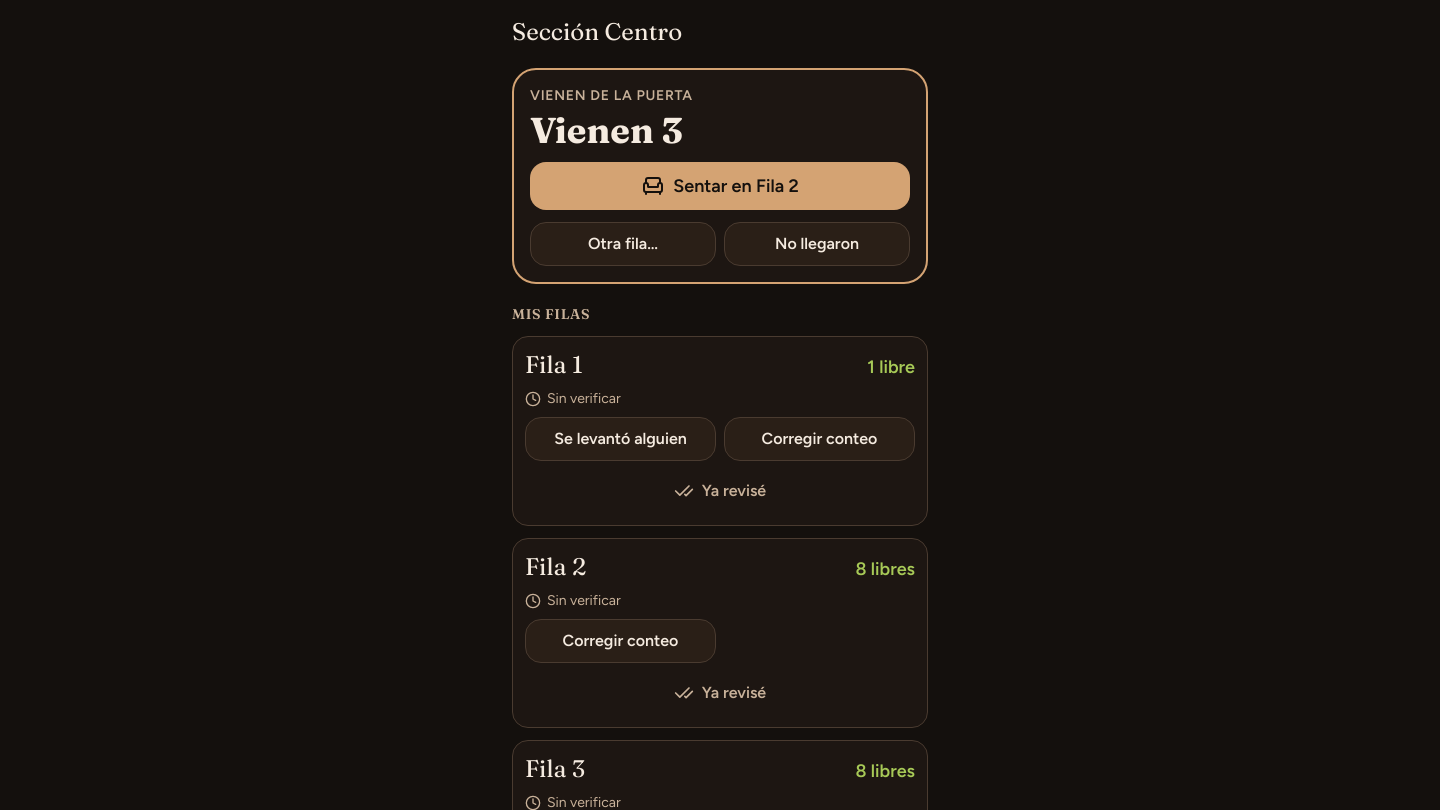
Test: PendienteCard / sentar › 'Otra fila…' en filas de un tramo lista las filas donde entra el grupo y no las que no
The width and height of the screenshot is (1440, 810).
Click the button "Otra fila…" at [623, 244], box [530,222,716,266]
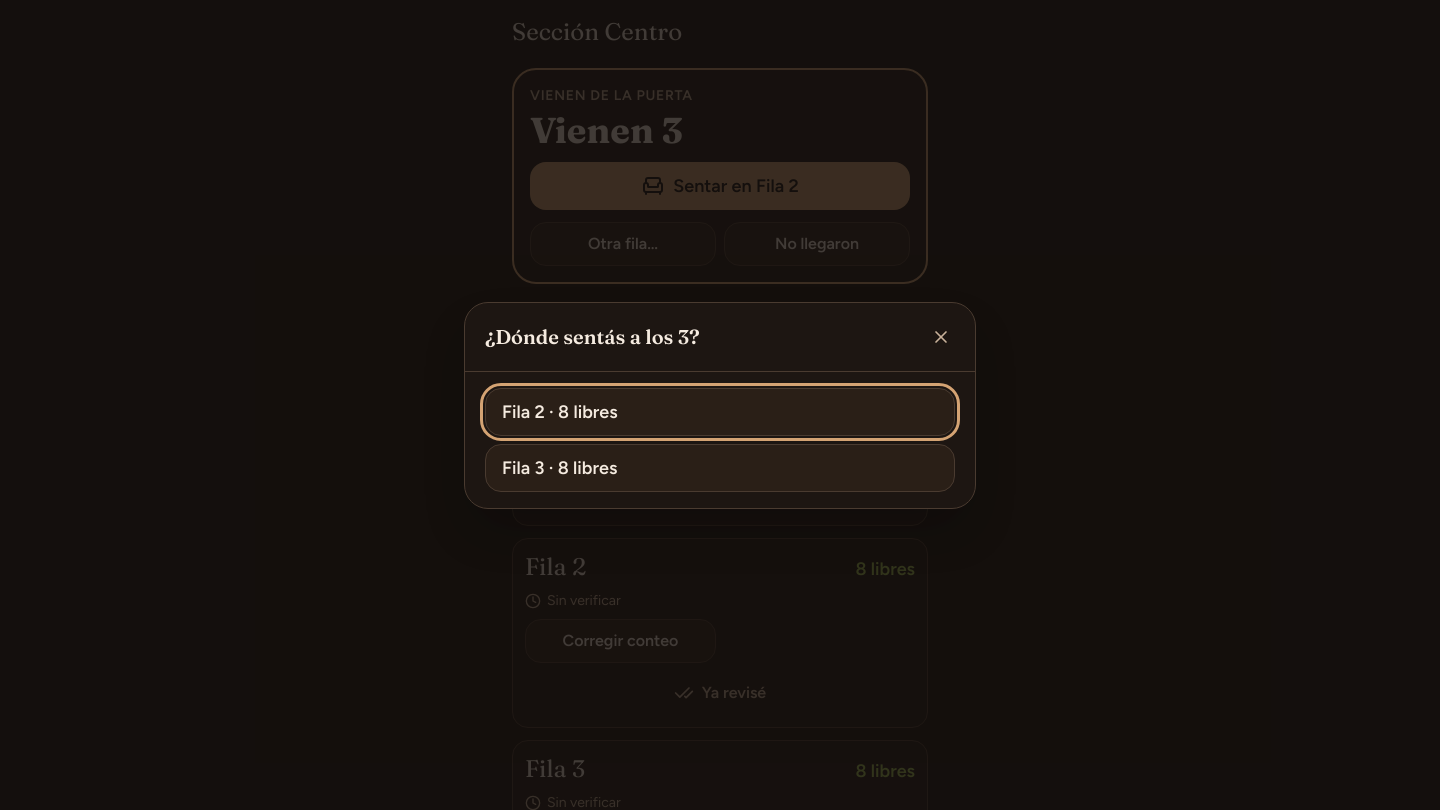
Now the button "Fila 2 · 8 libres" is shown, box [485,388,955,436]
Now the button "Fila 3 · 8 libres" is shown, box [485,444,955,492]
